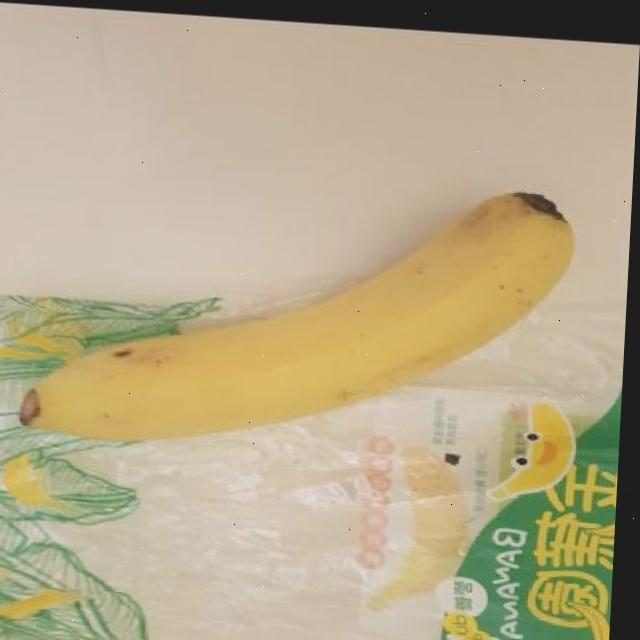banana: (1, 146, 590, 486)
